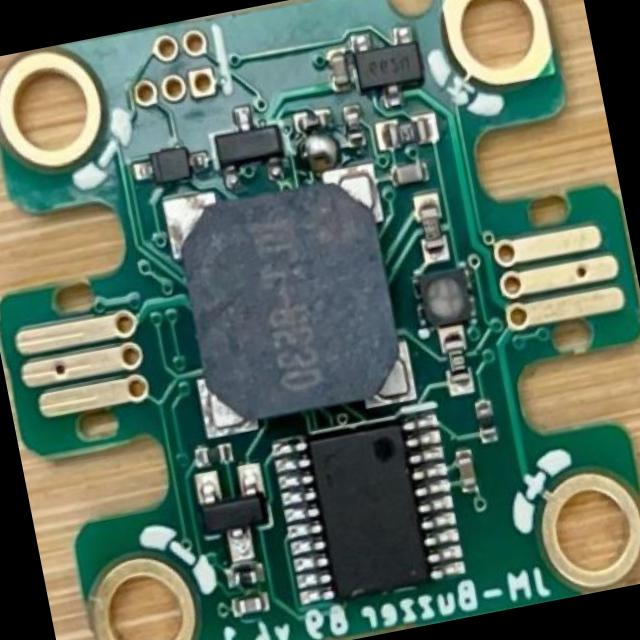IC: (282, 415, 449, 612)
capacitor: (445, 450, 483, 494), (233, 596, 270, 618)
diode: (148, 146, 194, 188)
resistor: (441, 339, 474, 391), (418, 198, 445, 248), (385, 118, 427, 146), (295, 103, 328, 134), (224, 568, 260, 594), (472, 396, 494, 438), (348, 112, 366, 150)
transistor: (346, 35, 431, 110), (198, 474, 276, 548), (208, 111, 288, 181)
